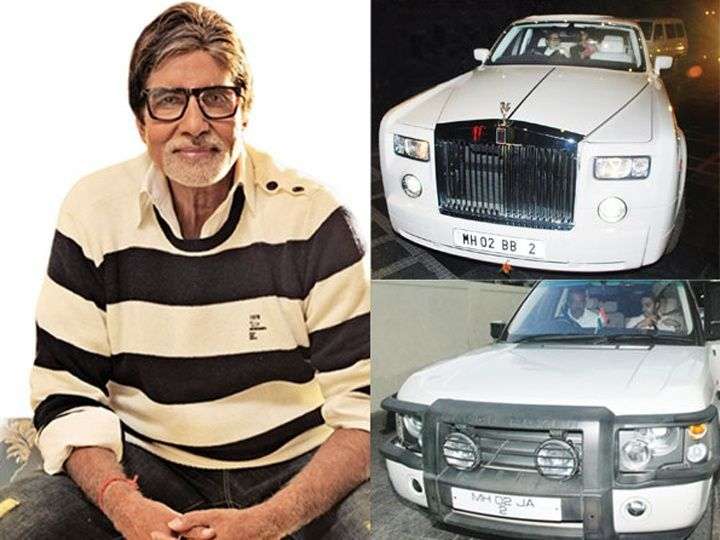number_plate: (448, 483, 571, 525), (453, 226, 546, 260)
